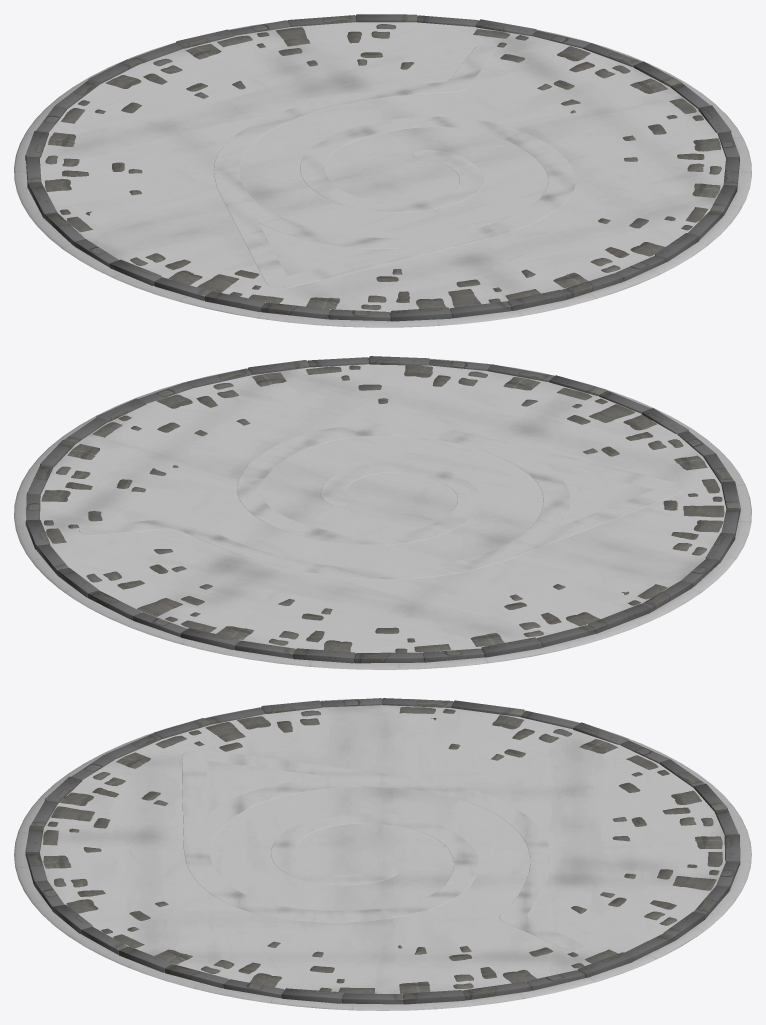
Rendered from SM_ENV_LKNVLD_KonohaMark.FBX.
3 views of the same model, one above another, from view 1: azimuth 30°, elevation 25°; view 2: azimuth 150°, elevation 25°; view 3: azimuth 270°, elevation 25° (orthographic).
Visible parts, largest first — view 1: SM_ENV_LKNVLD_KonohaMark; view 2: SM_ENV_LKNVLD_KonohaMark; view 3: SM_ENV_LKNVLD_KonohaMark.
Boxes of the visible parts, bbox=[...] form: SM_ENV_LKNVLD_KonohaMark: bbox=[14, 14, 751, 327]; SM_ENV_LKNVLD_KonohaMark: bbox=[14, 356, 751, 669]; SM_ENV_LKNVLD_KonohaMark: bbox=[14, 698, 751, 1010].
Bounding box in the file's own units: 2093 × 24.3 × 2093.
